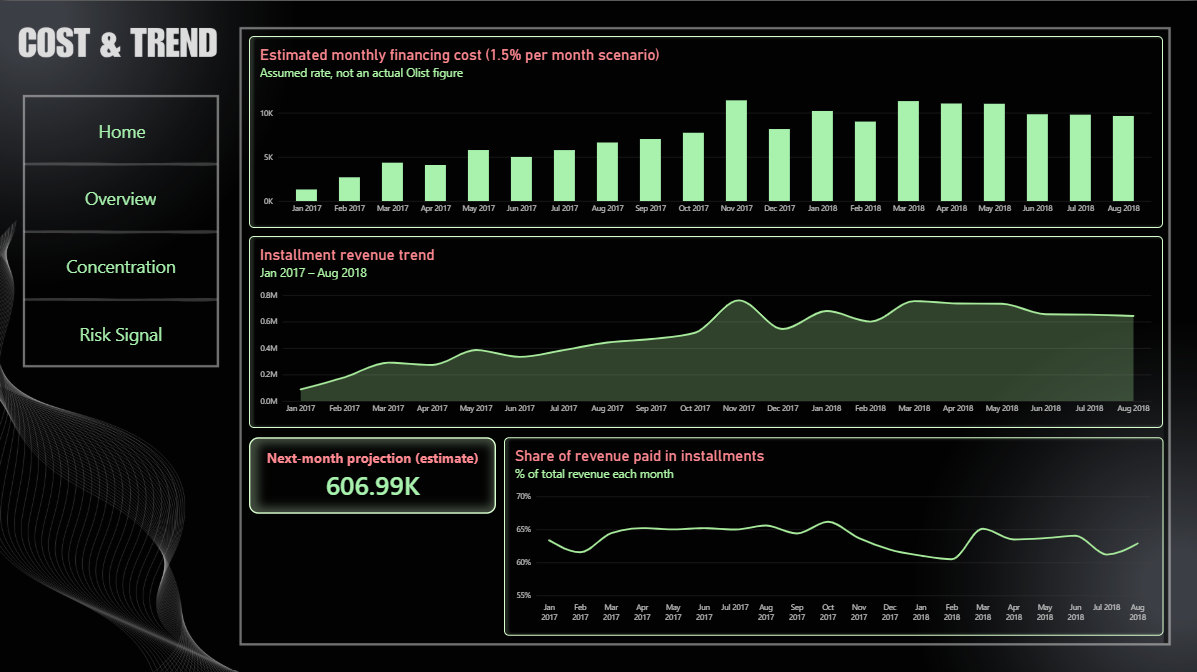

Layout of this report page (visuals, bound fields, positions):
{"tool":"powerbi","page":{"name":"Cost & Trend","canvas":[1920,1080],"ordinal":4},"visuals":[{"type":"clusteredColumnChart","title":"Estimated monthly financing cost (1.5% per month scenario)","fields":{"Category":["public dim_date.month_year_label"],"Y":["public fact_orders.Estimated Monthly Financing Cost"]},"box":[400,55,1462.5,307.5],"z":0},{"type":"lineChart","title":"Installment revenue trend","fields":{"Category":["public dim_date.month_year_label"],"Y":["public fact_orders.Financed Revenue"]},"box":[400,375,1462.5,307.5],"z":1000},{"type":"cardVisual","fields":{"Data":["public dim_customers.Projected Next Month Exposure"]},"box":[400,697.5,395,122.5],"z":2000},{"type":"lineChart","title":"Share of revenue paid in installments","fields":{"Category":["public dim_date.month_year_label"],"Y":["public dim_customers.Exposure Pct of Volume"]},"box":[807.5,697.5,1055,317.5],"z":3000},{"type":"actionButton","box":[41.1,153.7,309.5,110.4],"z":4000},{"type":"actionButton","box":[40.5,259.5,309.2,110.4],"z":5000},{"type":"actionButton","box":[40,370,310,110],"z":6000},{"type":"actionButton","box":[40,478,310,110],"z":7000}]}

Visuals, with their boxes in screenshot pixels (x1, y1, x2, y2), scaled from the page's 1920x1080 canvas onto the 1197x672 screenshot:
"Estimated monthly financing cost (1.5% per month scenario)" clusteredColumnChart: <box>249,34,1161,226</box>
"Installment revenue trend" lineChart: <box>249,233,1161,425</box>
cardVisual - public dim_customers.Projected Next Month Exposure: <box>249,434,496,510</box>
"Share of revenue paid in installments" lineChart: <box>503,434,1161,632</box>
actionButton: <box>26,96,219,164</box>
actionButton: <box>25,161,218,230</box>
actionButton: <box>25,230,218,299</box>
actionButton: <box>25,297,218,366</box>
